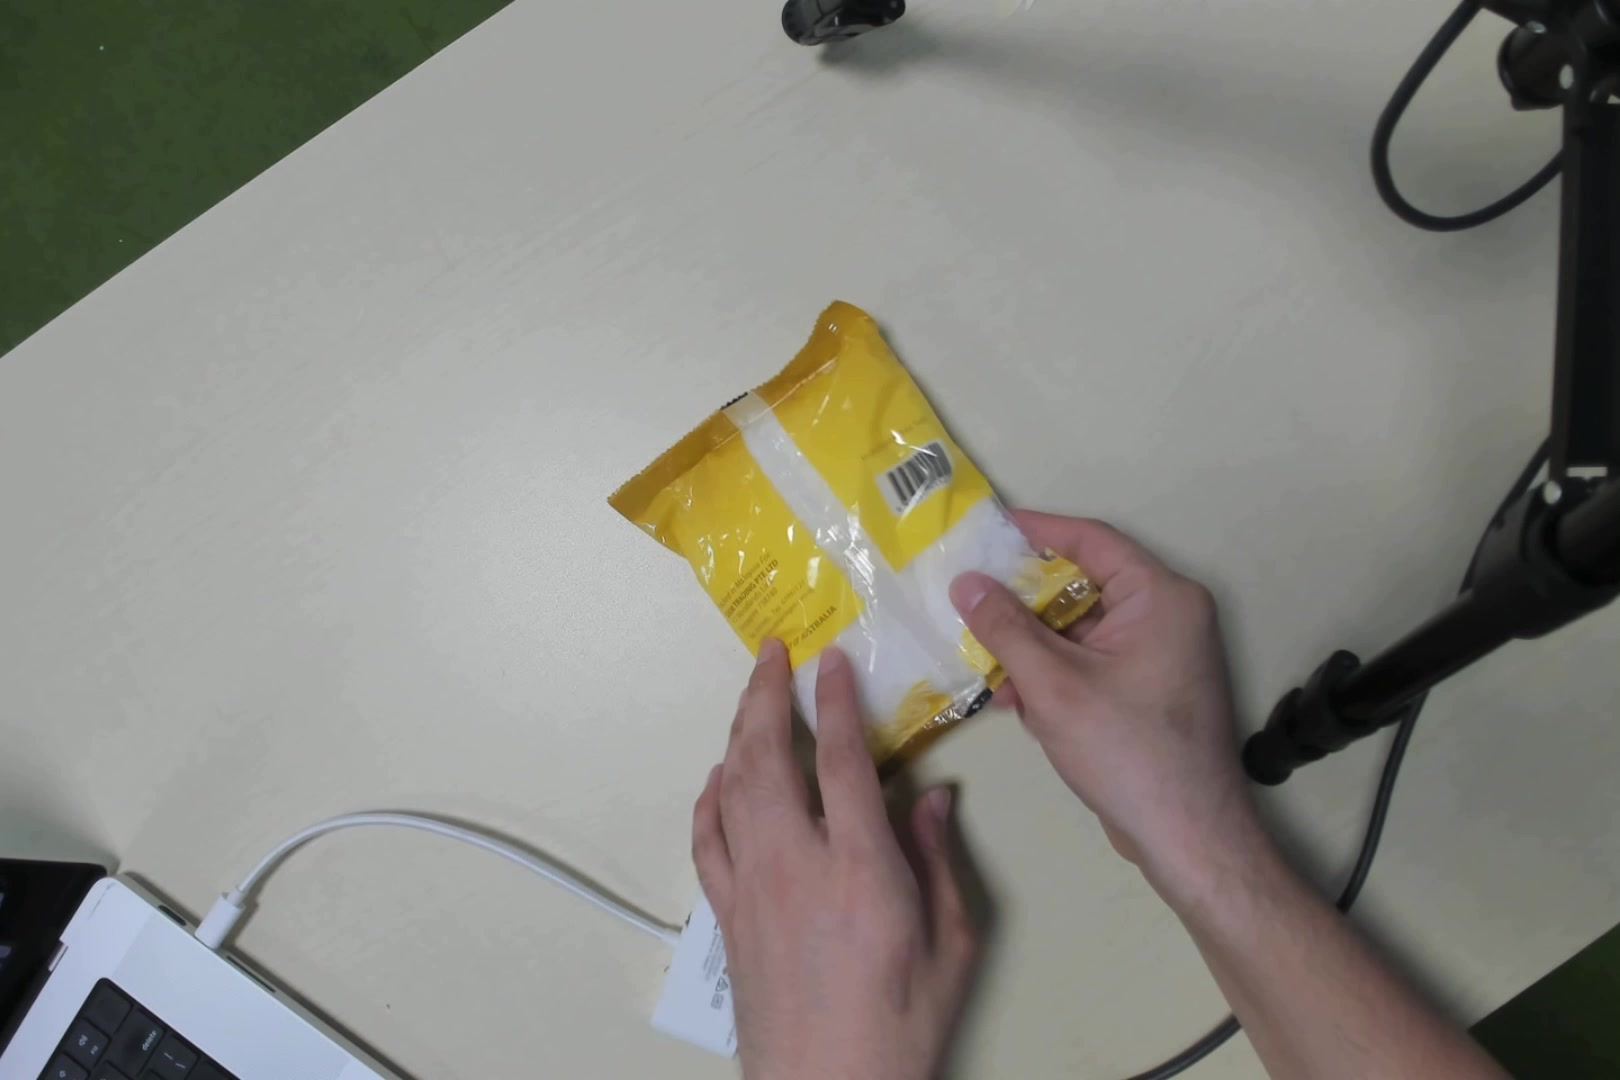Salt_500-599g_Halal_NonHealthy: (695, 360, 1020, 722)
